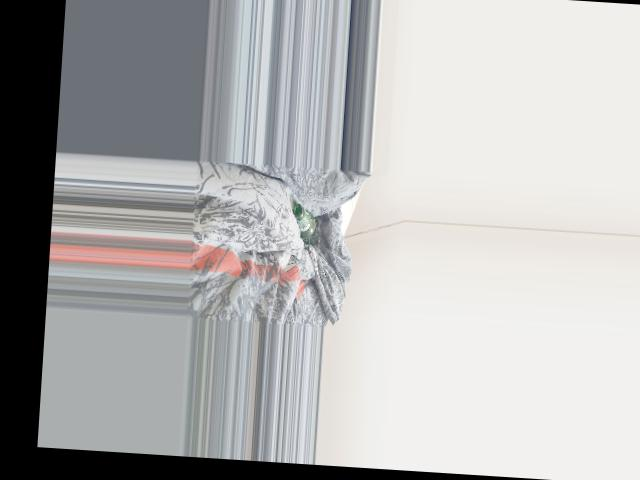beer: (290, 203, 319, 246)
